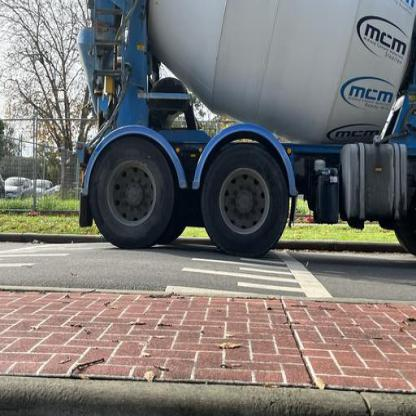Tire: (200, 142, 288, 258), (88, 136, 174, 249)
